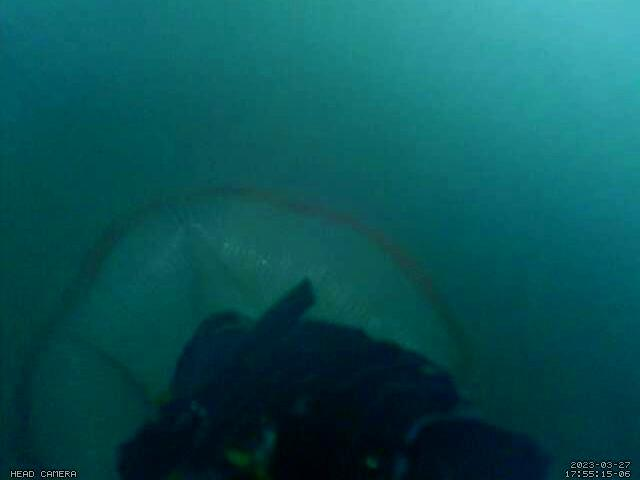head: (13, 185, 486, 480)
